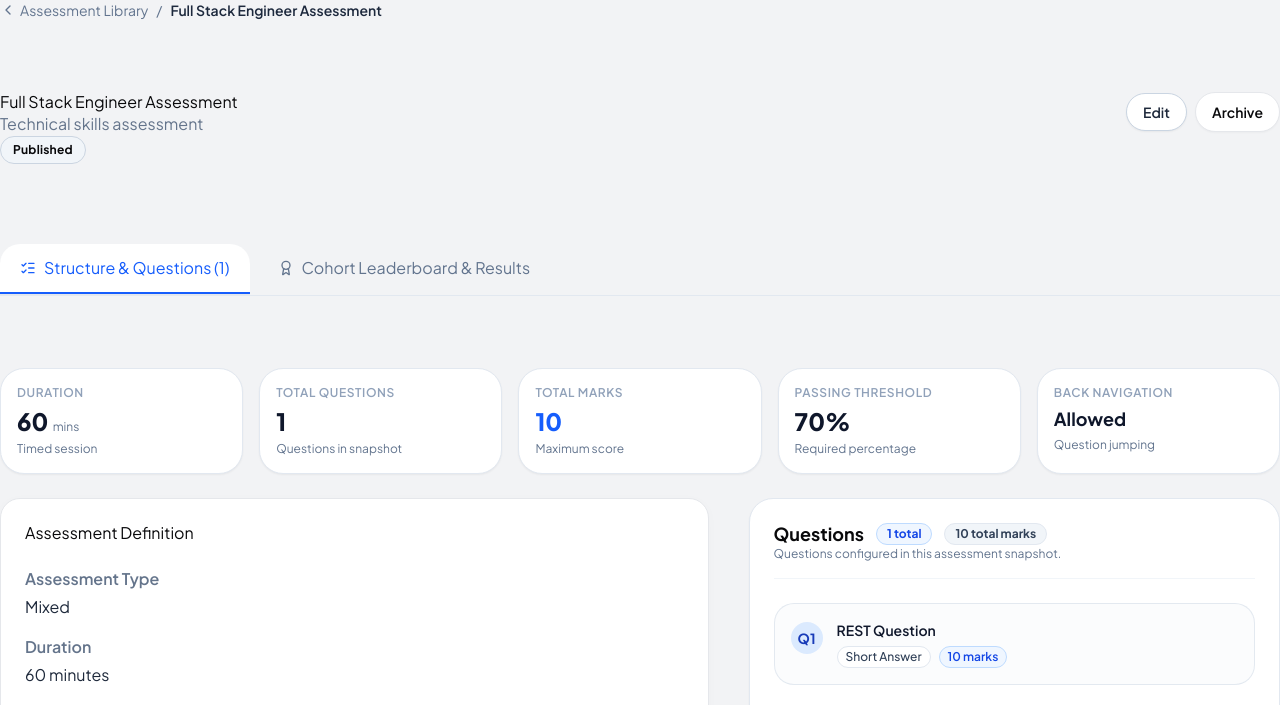
Test: recruiter advancement and promotion flow › requires explicit provisional confirmation when promoting provisional candidates
This screenshot has width=1280, height=705.
What coordinates should you click on to do the following:
click the tab "Cohort Leaderboard & Results"
I would click on:
 (404, 269)
Its box is [258,244,550,294].
(page scrolled)
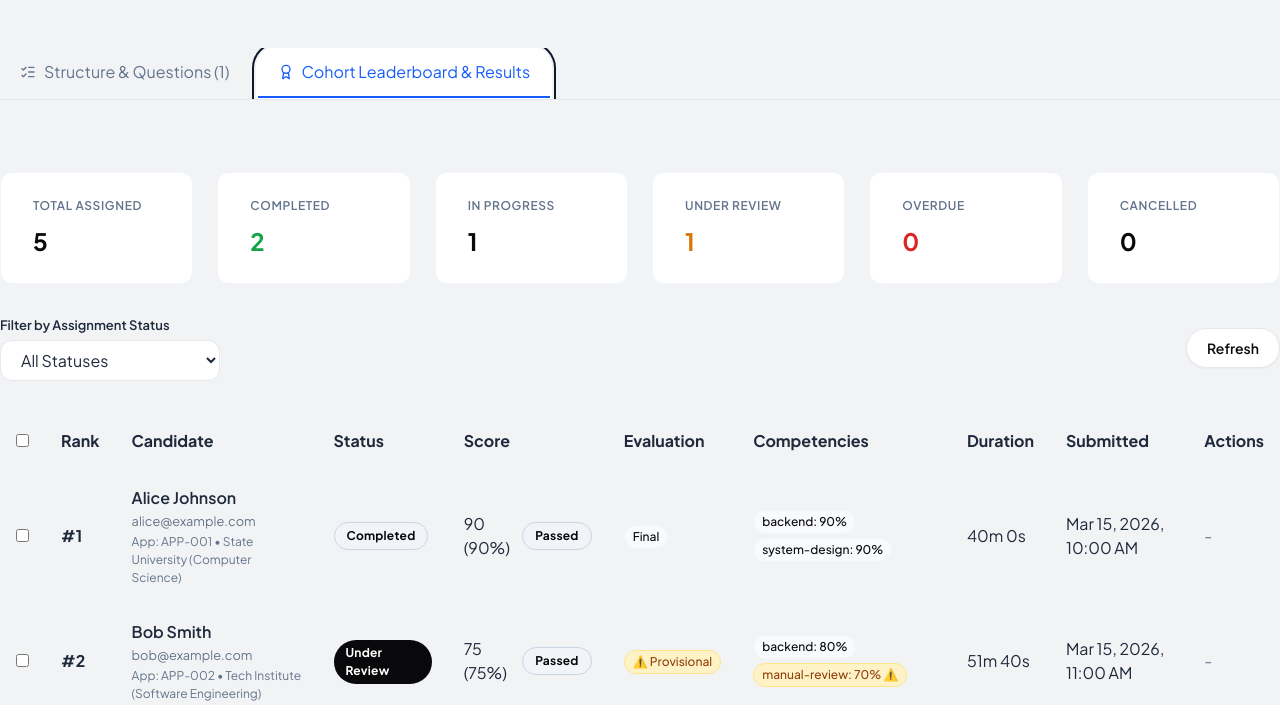
What coordinates should you click on to do the following:
click the checkbox named "Select Bob Smith"
I would click on:
 (22, 661)
Its box is [16,654,29,667].
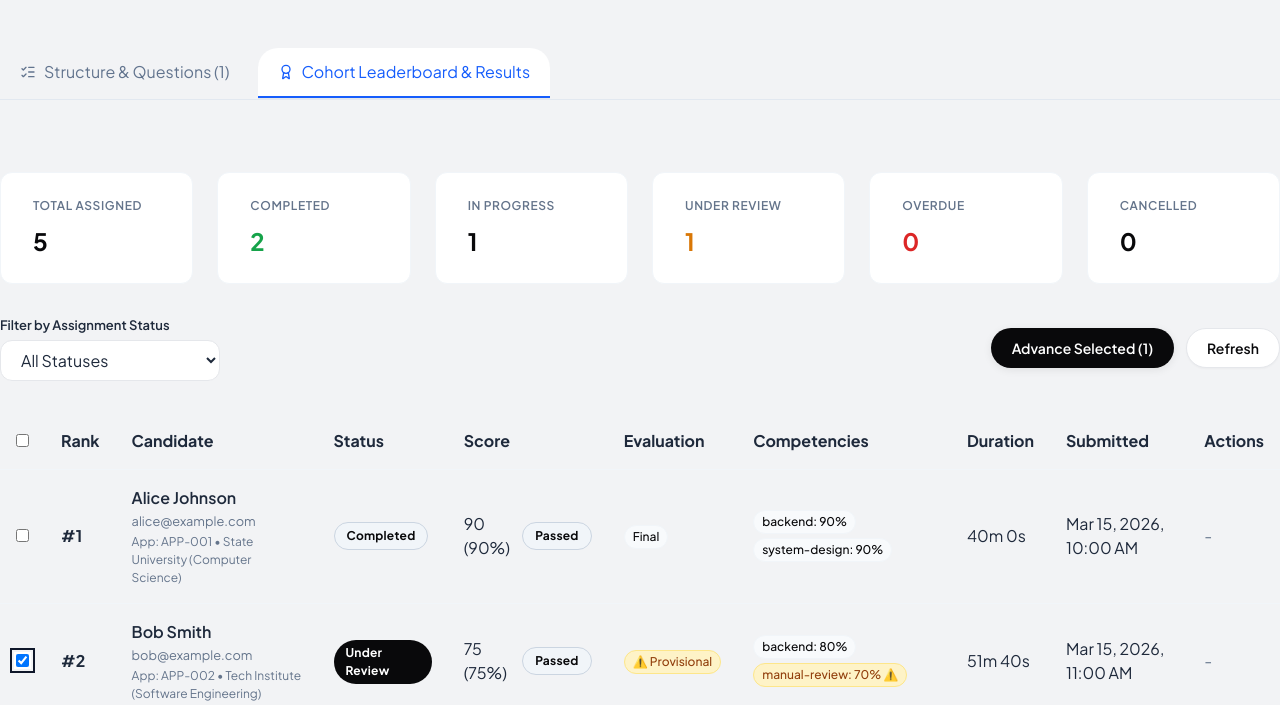
What coordinates should you click on to do the following:
click the button "Advance Selected (1)"
I would click on:
 (1082, 348)
Its box is [991,328,1174,368].
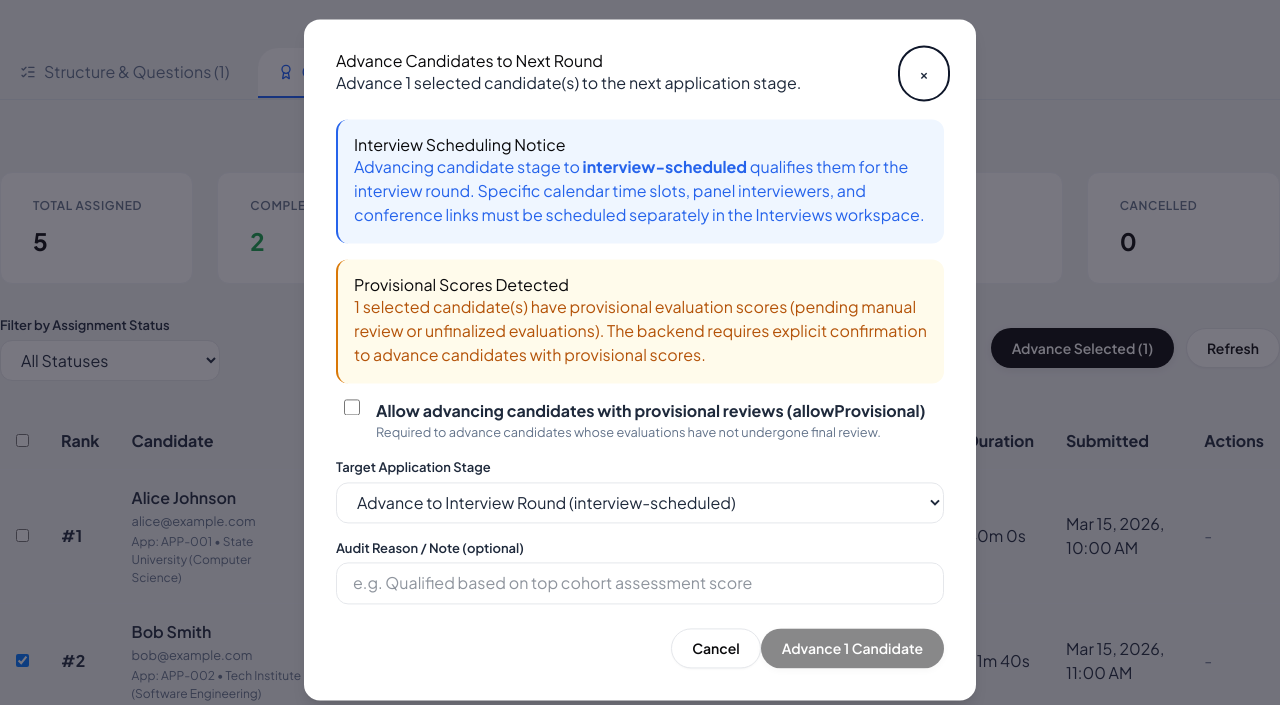
Check: the heading "Advance Candidates to Next Round" is shown, box [336,50,603,71]
Check: the heading "Interview Scheduling Notice" is shown, box [354,134,566,155]
Check: the text "qualifies them for the interview round" is shown, box [354,156,924,225]
What coordinates should you click on to do the following:
click the checkbox labelled "Allow advancing candidates with provisional reviews"
I would click on:
 (352, 407)
Its box is [344,399,360,415].
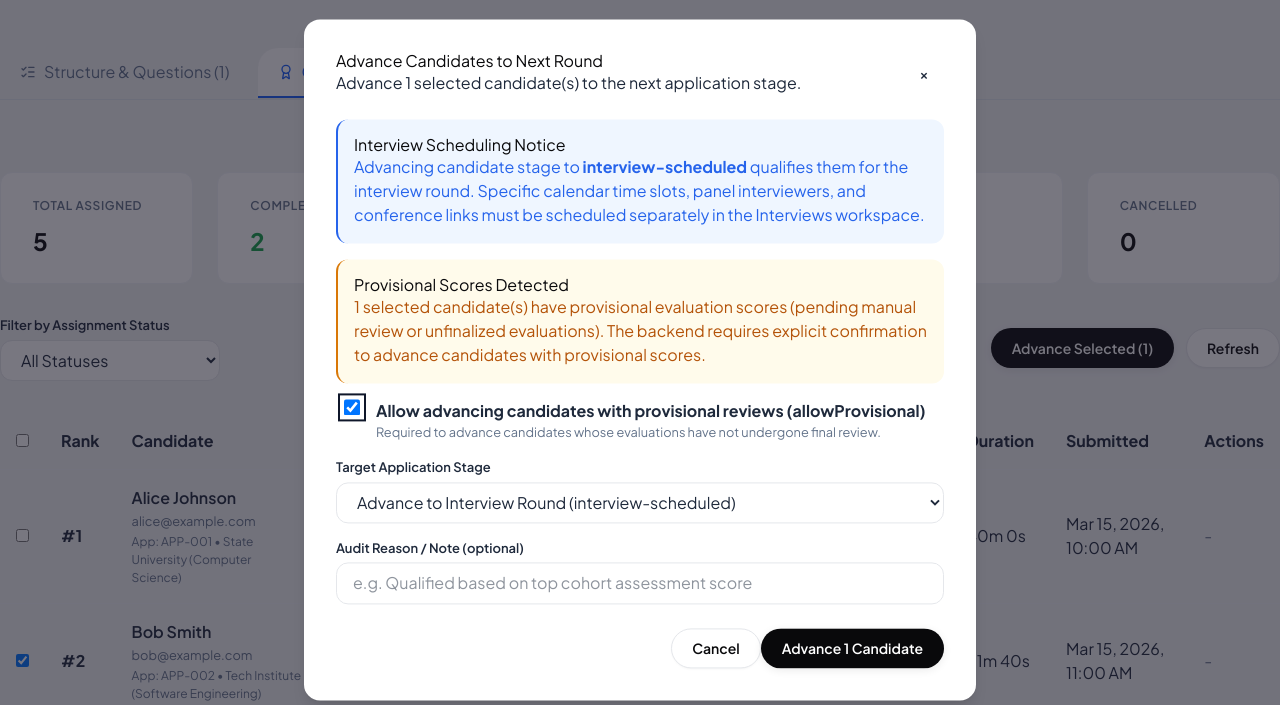
Check: the button "Advance 1 Candidate" is enabled
What coordinates should you click on to do the following:
click the button "Advance 1 Candidate"
I would click on:
 (852, 649)
Its box is [761,629,944,669].
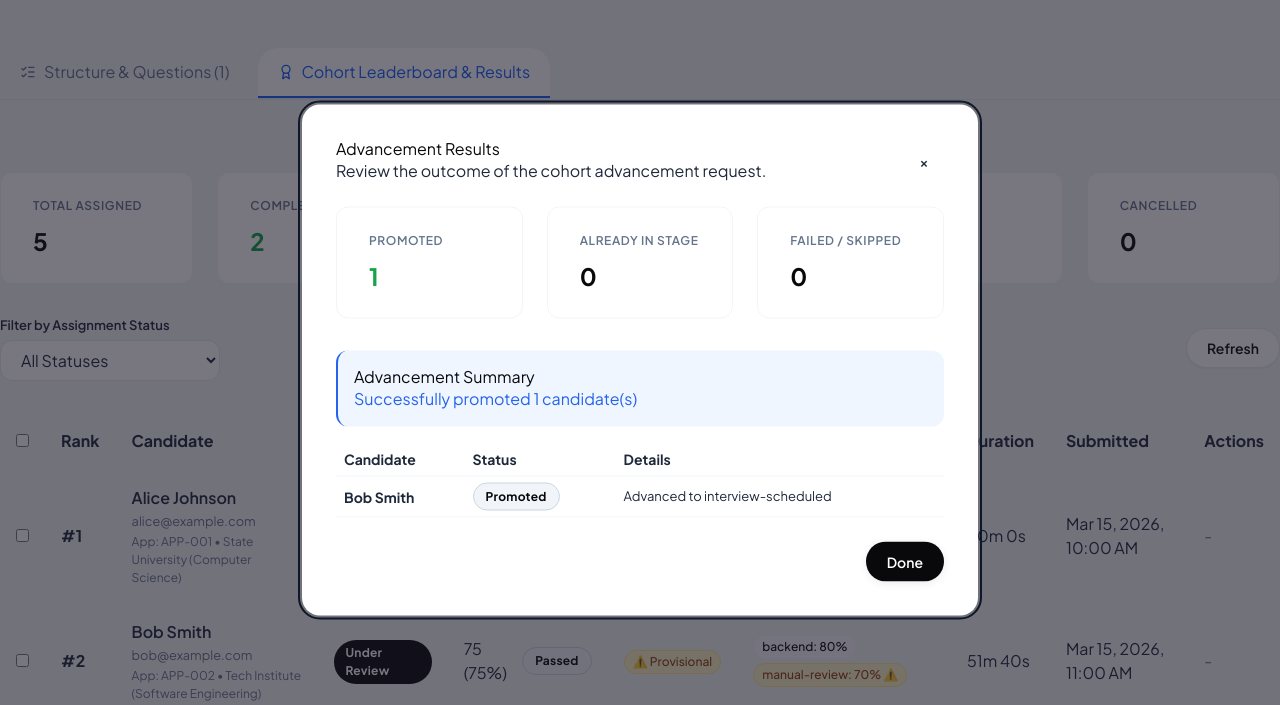
Check: the heading "Advancement Results" is shown, box [336,138,500,158]
Check: the text "Already in Stage" is shown, box [580,232,700,250]
Check: the button "Done" is shown, box [866,542,944,582]
